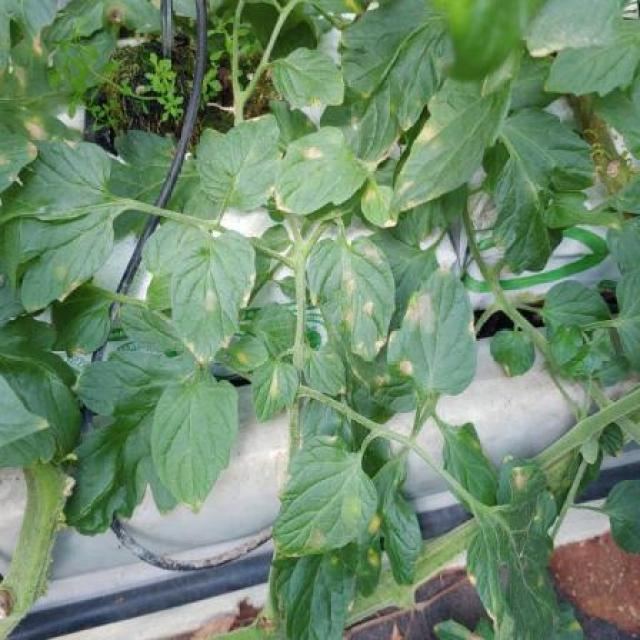Leaf Mold: (391, 48, 524, 213), (274, 434, 379, 559), (387, 264, 479, 397), (168, 229, 256, 368), (307, 234, 397, 364), (274, 124, 370, 216), (194, 112, 280, 212)
